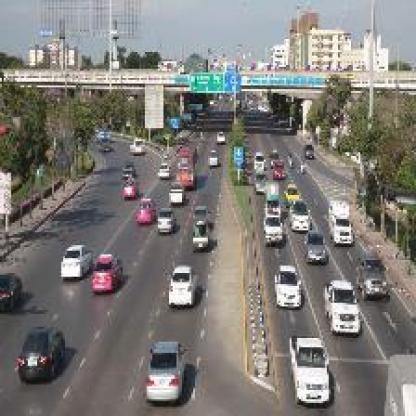other: (119, 166, 192, 236), (259, 156, 315, 227), (160, 258, 200, 310), (91, 238, 116, 296)
